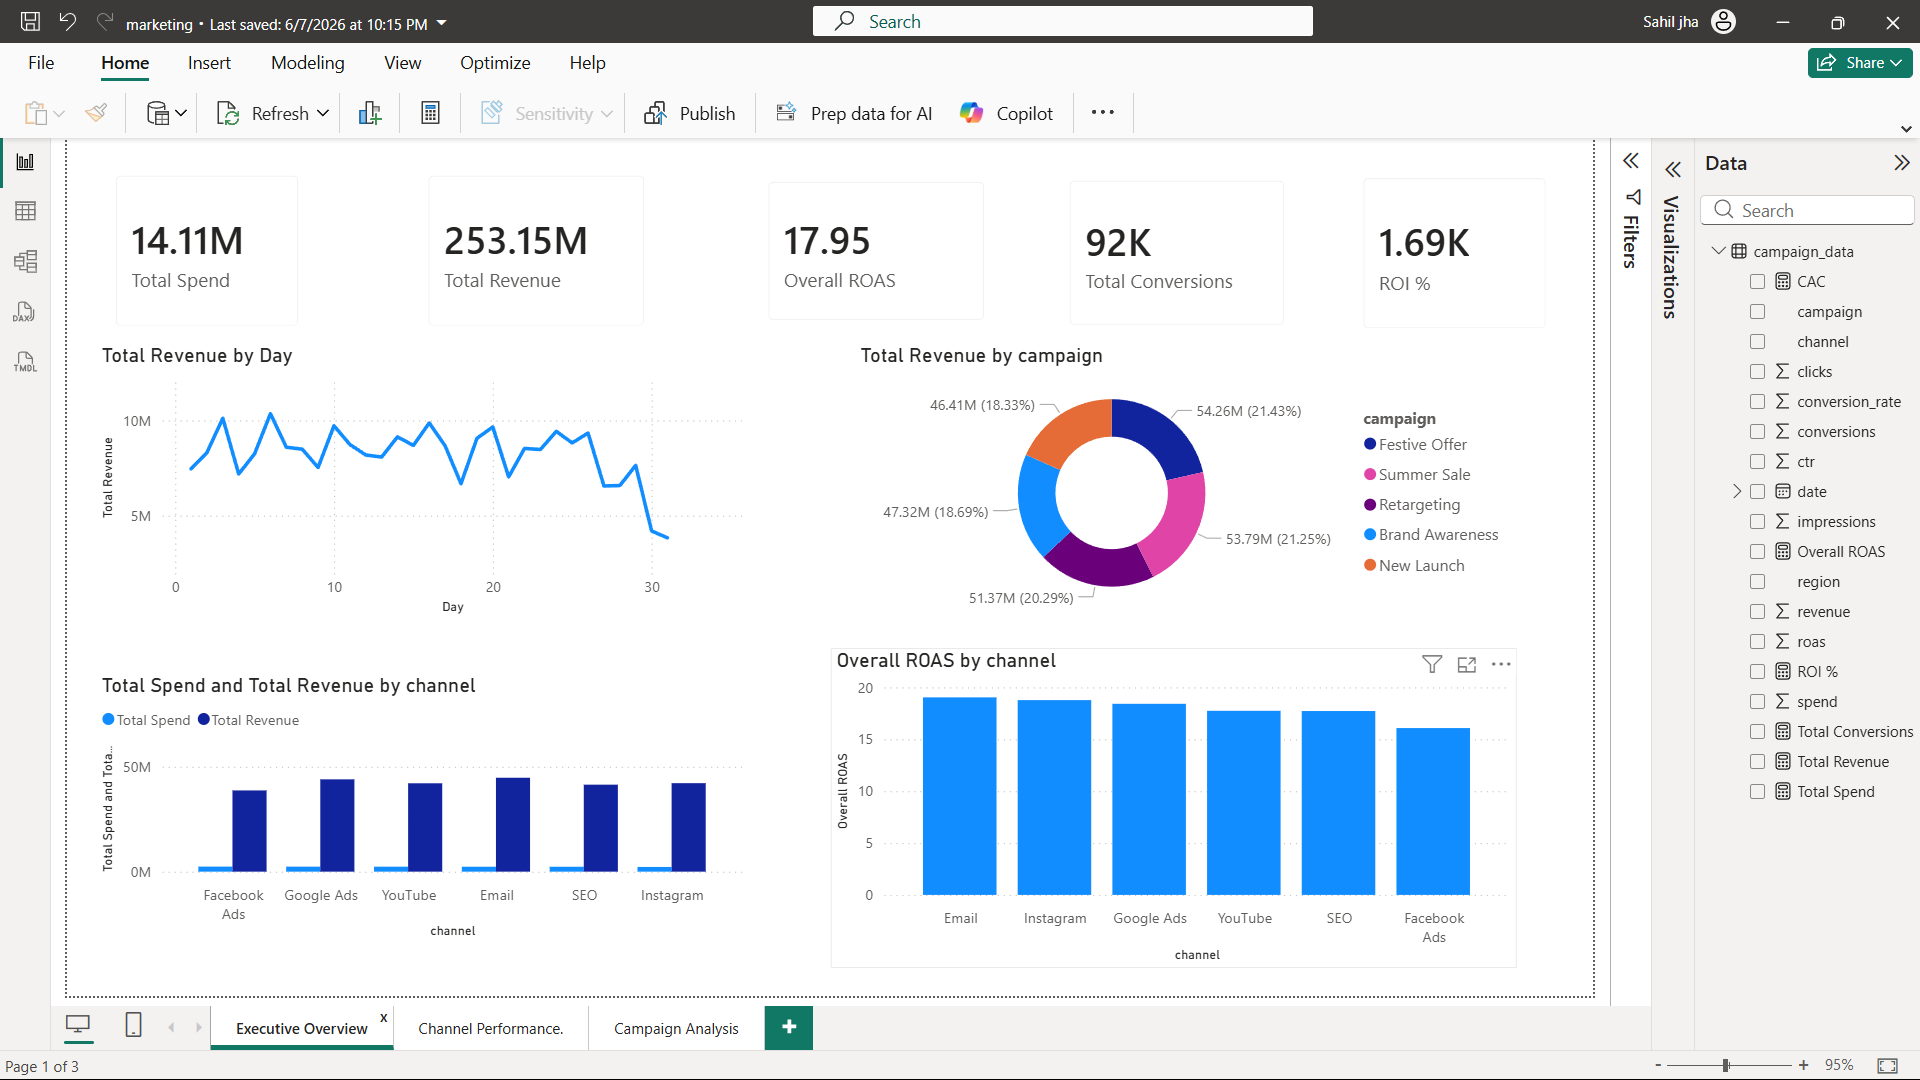

The page's visual inventory and layout, read from the dashboard file:
{"tool":"powerbi","page":{"name":" Executive Overview ","canvas":[1280,720],"ordinal":0},"visuals":[{"type":"cardVisual","fields":{"Data":["campaign_data.Total Spend"]},"box":[23.6,15.2,187.1,160.2],"z":0},{"type":"cardVisual","fields":{"Data":["campaign_data.Total Revenue"]},"box":[286.6,15.2,215.8,160.2],"z":1000},{"type":"cardVisual","fields":{"Data":["campaign_data.Overall ROAS"]},"box":[571.6,20.2,215.8,150.1],"z":2000},{"type":"cardVisual","fields":{"Data":["campaign_data.Total Conversions"]},"box":[824.5,18.5,214.1,155.1],"z":3000},{"type":"clusteredColumnChart","fields":{"Category":["campaign_data.channel"],"Y":["campaign_data.Overall ROAS"]},"box":[640.7,428.2,574.9,268.1],"z":3001},{"type":"clusteredColumnChart","fields":{"Category":["campaign_data.channel"],"Y":["campaign_data.Total Spend","campaign_data.Total Revenue"]},"box":[23.6,448.5,548,227.6],"z":3002},{"type":"lineChart","fields":{"Y":["campaign_data.Total Revenue"],"Category":["campaign_data.date.Variation.Date Hierarchy.Day"]},"box":[23.6,172,548,232.7],"z":3003},{"type":"donutChart","fields":{"Category":["campaign_data.campaign"],"Y":["campaign_data.Total Revenue"]},"box":[660.9,172,554.7,232.7],"z":3004},{"type":"cardVisual","fields":{"Data":["campaign_data.ROI %"]},"box":[1070.6,16.9,187.1,160.2],"z":3005}]}

Visuals, with their boxes on the page's 1280x720 design canvas (x1, y1, x2, y2). These are canvas units, not pixel positions in the 1920x1080 screenshot, which may show the page scaled, cropped or inside an application window:
cardVisual - campaign_data.Total Spend: [x1=24, y1=15, x2=211, y2=175]
cardVisual - campaign_data.Total Revenue: [x1=287, y1=15, x2=502, y2=175]
cardVisual - campaign_data.Overall ROAS: [x1=572, y1=20, x2=787, y2=170]
cardVisual - campaign_data.Total Conversions: [x1=824, y1=18, x2=1039, y2=174]
clusteredColumnChart - campaign_data.channel x campaign_data.Overall ROAS: [x1=641, y1=428, x2=1216, y2=696]
clusteredColumnChart - campaign_data.channel x campaign_data.Total Spend: [x1=24, y1=448, x2=572, y2=676]
lineChart - campaign_data.Total Revenue x campaign_data.date.Variation.Date Hierarchy.Day: [x1=24, y1=172, x2=572, y2=405]
donutChart - campaign_data.campaign x campaign_data.Total Revenue: [x1=661, y1=172, x2=1216, y2=405]
cardVisual - campaign_data.ROI %: [x1=1071, y1=17, x2=1258, y2=177]
